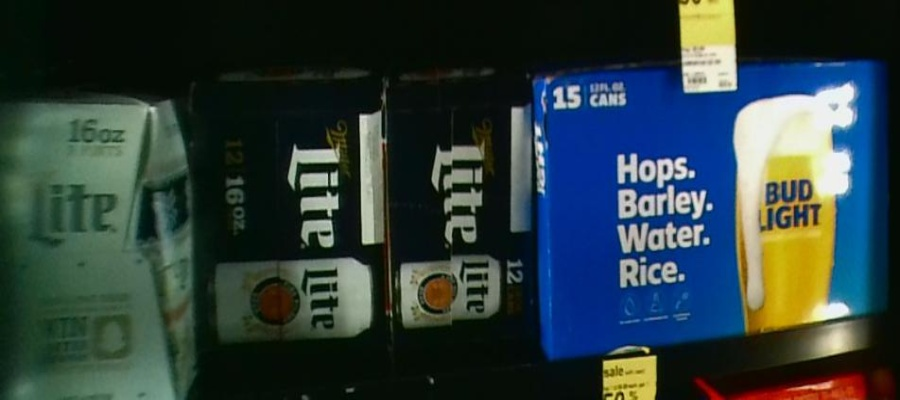bottle: (539, 64, 896, 328), (1, 96, 196, 395), (196, 74, 388, 365), (385, 70, 536, 357)
